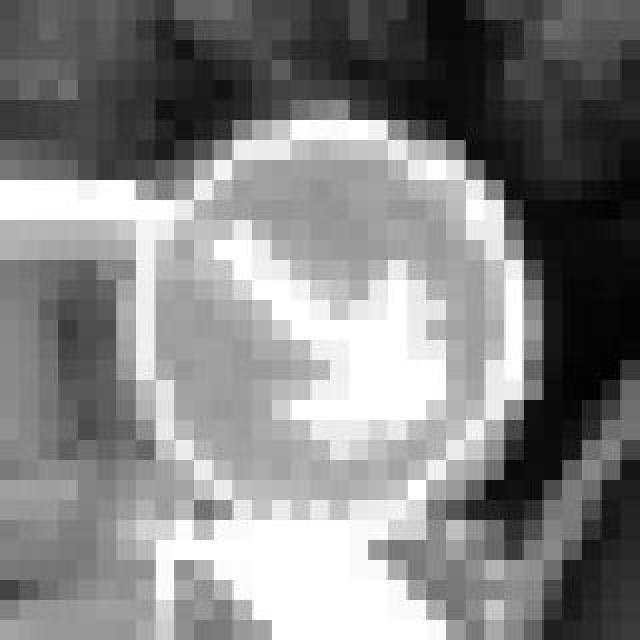keep right: (116, 80, 524, 520)
